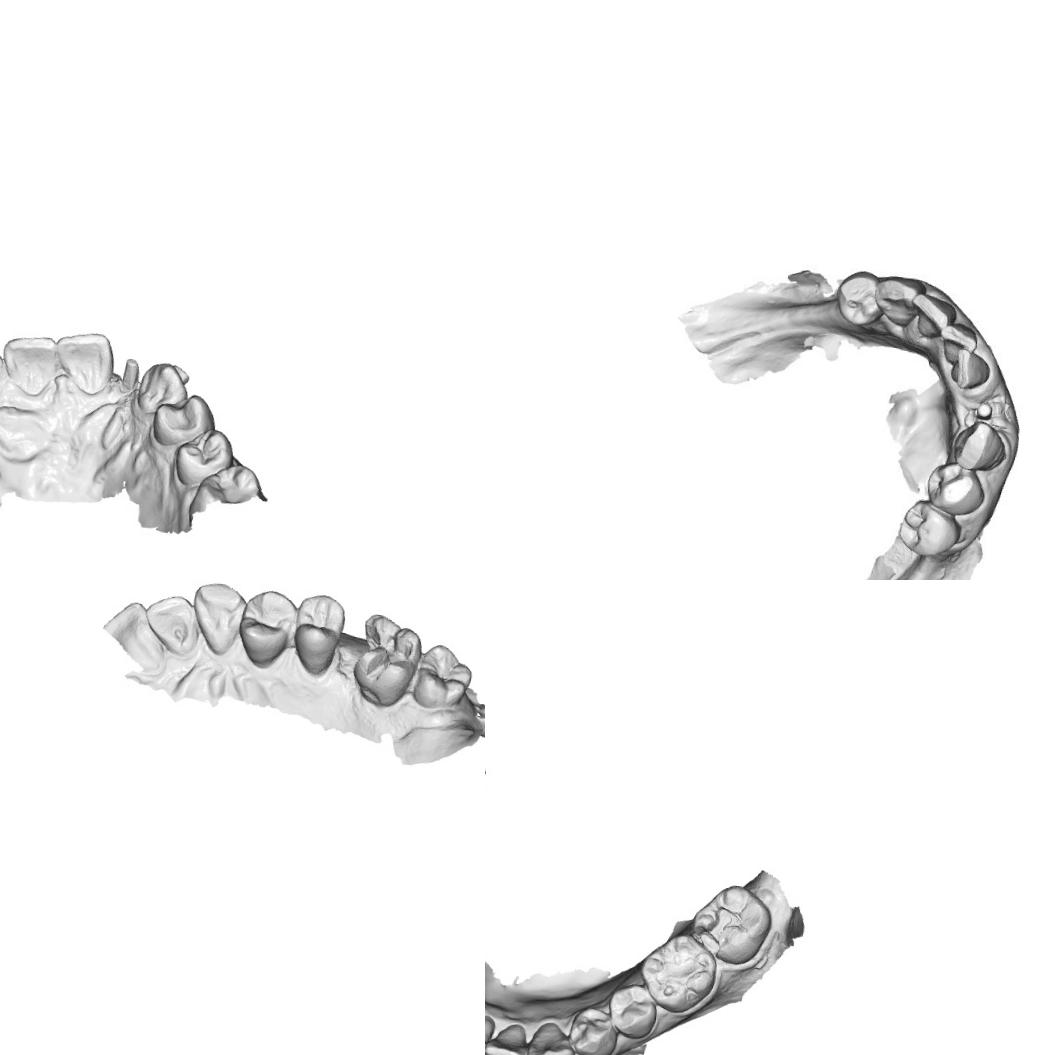abutment: (973, 399, 995, 425)
canine: (186, 580, 251, 663), (134, 359, 190, 418), (948, 420, 1003, 471), (523, 1016, 576, 1055), (875, 277, 918, 318)
crown: (117, 350, 140, 395)
incisor: (95, 598, 168, 686), (140, 591, 203, 668), (50, 325, 118, 396), (0, 331, 63, 399), (485, 1015, 532, 1055), (910, 293, 951, 336), (952, 348, 988, 390), (940, 319, 975, 355), (0, 344, 13, 399)
inlay: (689, 897, 752, 958)
molar: (632, 926, 722, 1017), (348, 608, 422, 708), (409, 642, 477, 718)
premolar: (234, 585, 298, 674), (171, 424, 239, 492), (290, 592, 346, 674), (147, 389, 217, 452), (603, 982, 659, 1042), (928, 460, 988, 514), (838, 262, 882, 332), (565, 1003, 623, 1055), (902, 501, 958, 554)
